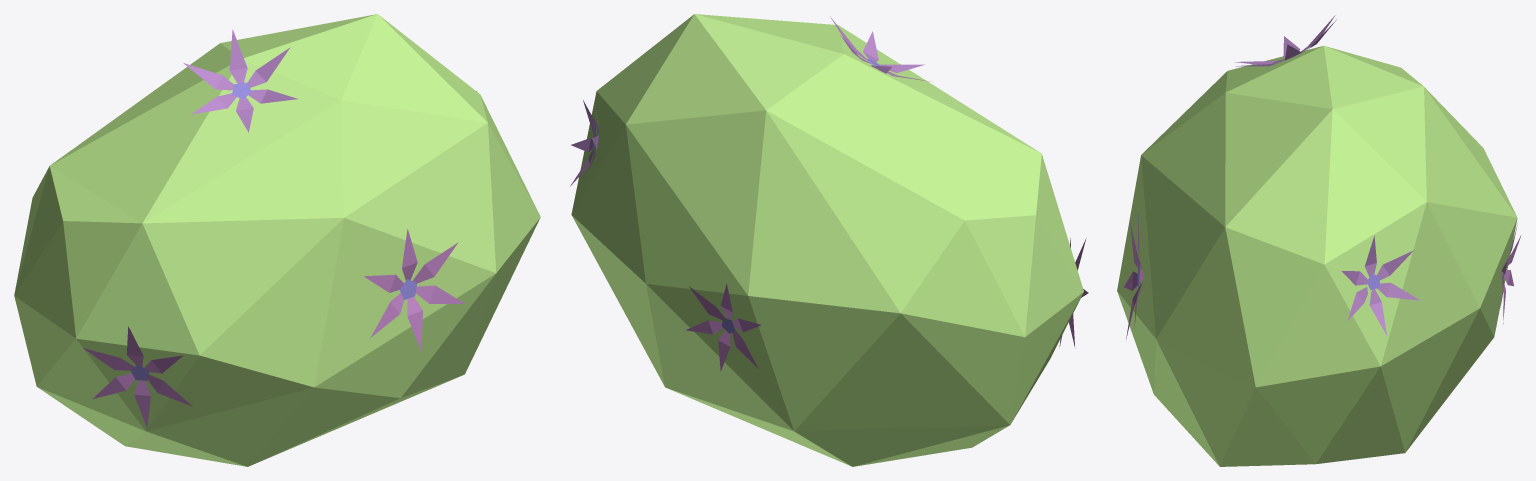
File: FlowerBush_g_m_05.fbx
3 views of the same model, side by side, from view 1: azimuth 30°, elevation 25°; view 2: azimuth 150°, elevation 25°; view 3: azimuth 270°, elevation 25° (orthographic). The views are drawn at different scales.
Visible parts, largest first — view 1: FlowerBush_g_m_05; view 2: FlowerBush_g_m_05; view 3: FlowerBush_g_m_05.
Boxes of the visible parts, x1,y1,x2,y2 form: FlowerBush_g_m_05: (14,14,540,466); FlowerBush_g_m_05: (570,14,1088,466); FlowerBush_g_m_05: (1117,15,1521,466).
Size of the model in its own units: 157 by 130 by 113.
